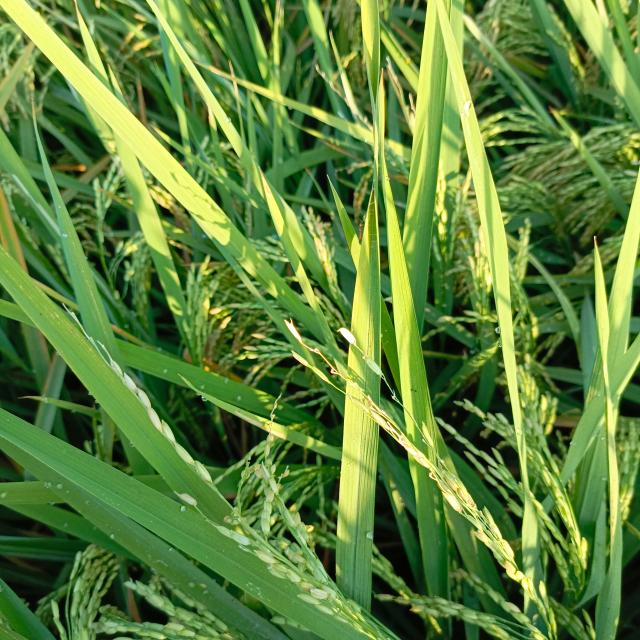Brown spot: (0, 186, 29, 272)
brown plant hopper: (356, 67, 389, 225), (506, 411, 542, 514)
insects: (405, 382, 420, 398)
